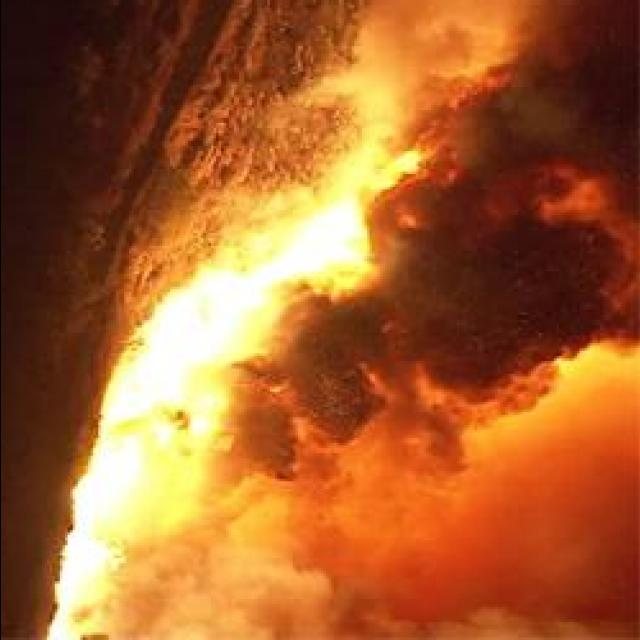fire: (95, 244, 254, 540), (50, 535, 116, 638), (300, 216, 356, 262)
smoke: (520, 0, 636, 226), (484, 215, 636, 357), (363, 286, 546, 400), (141, 558, 344, 640), (265, 281, 374, 433), (90, 452, 252, 540), (361, 388, 467, 481), (379, 0, 513, 72), (405, 81, 487, 190), (406, 603, 602, 640)
